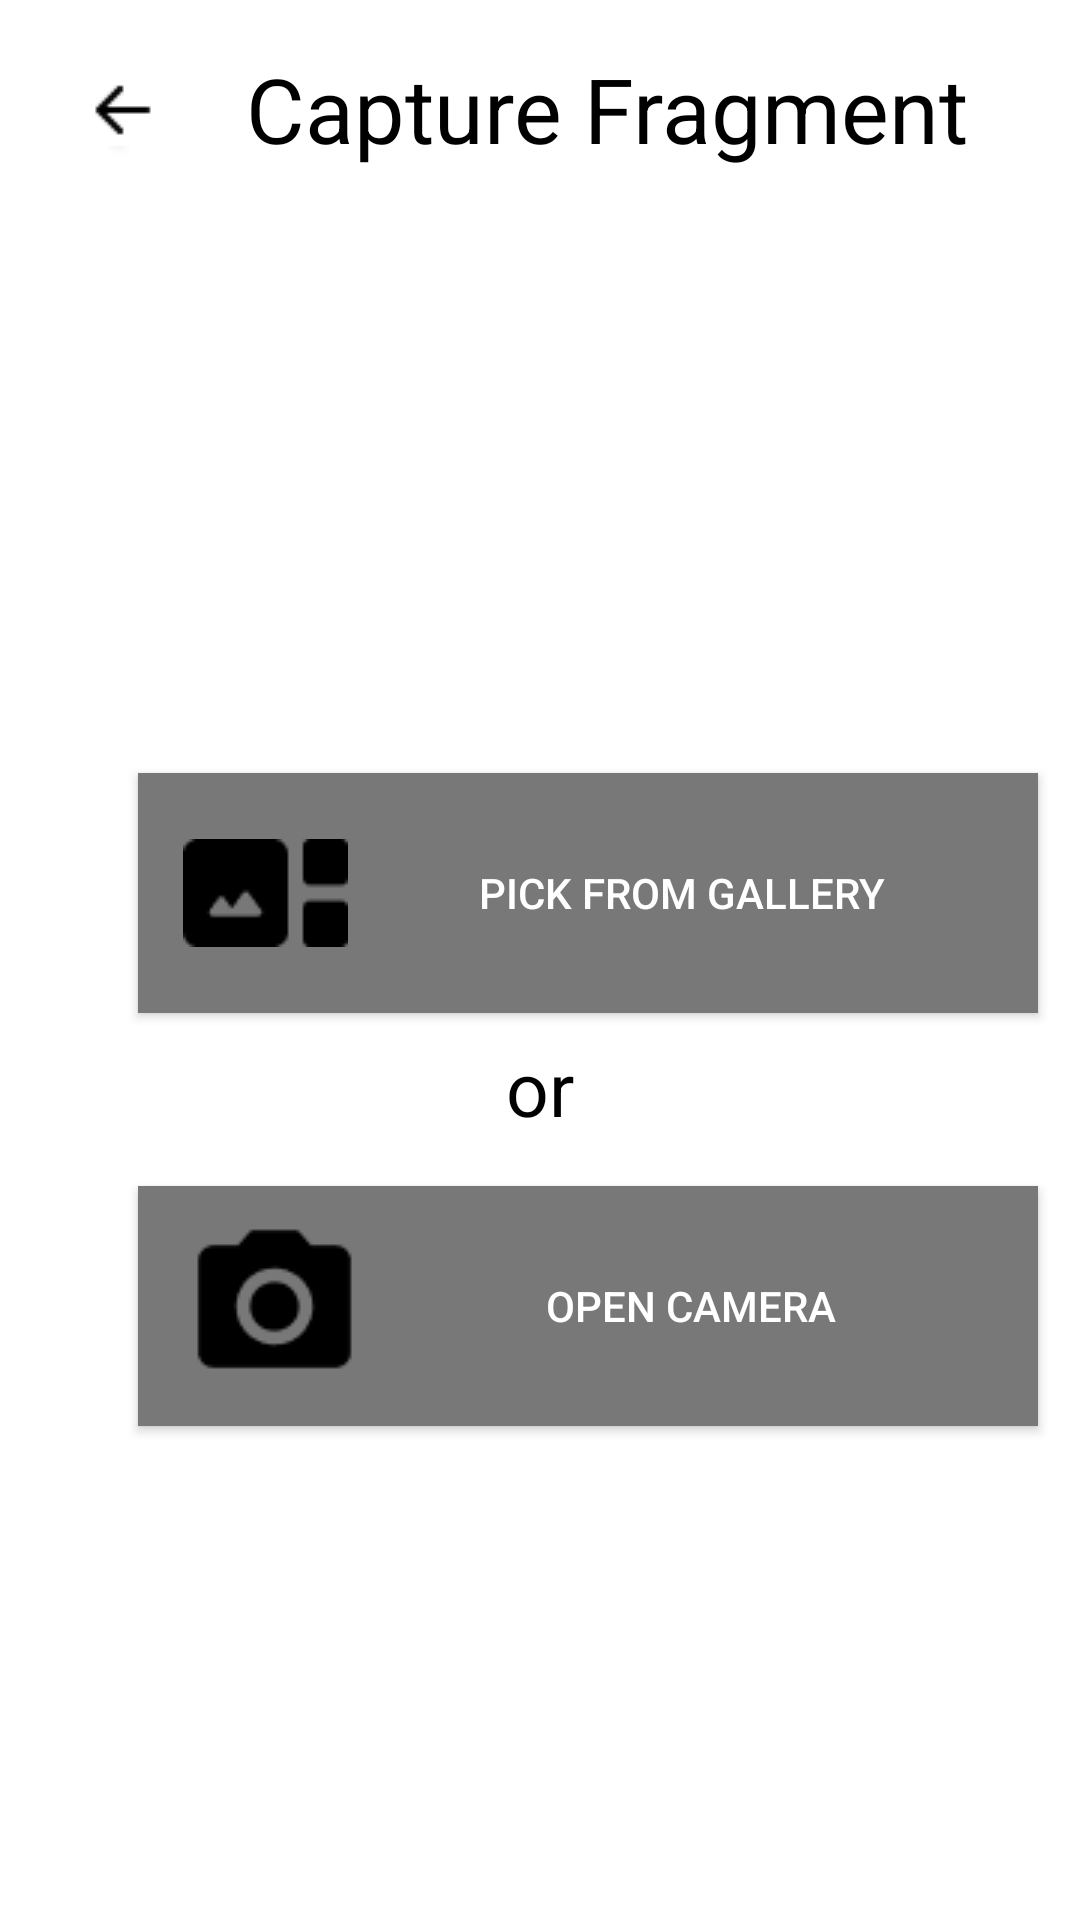

Where to tap for icons on this 1080x1920 app screen, as [x,y]:
arrow: [123,110]
